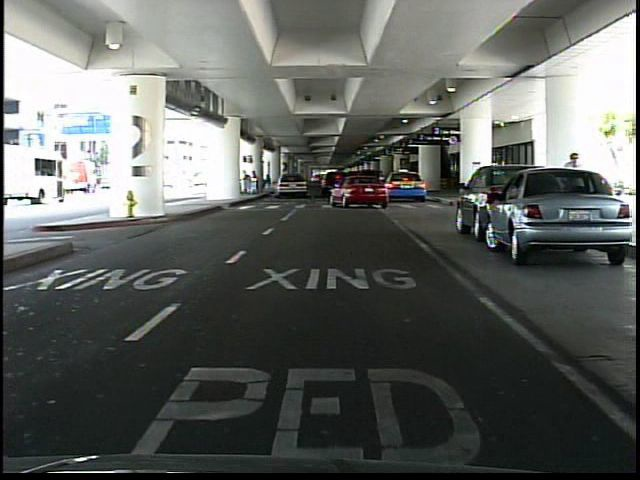person: (559, 149, 587, 234)
